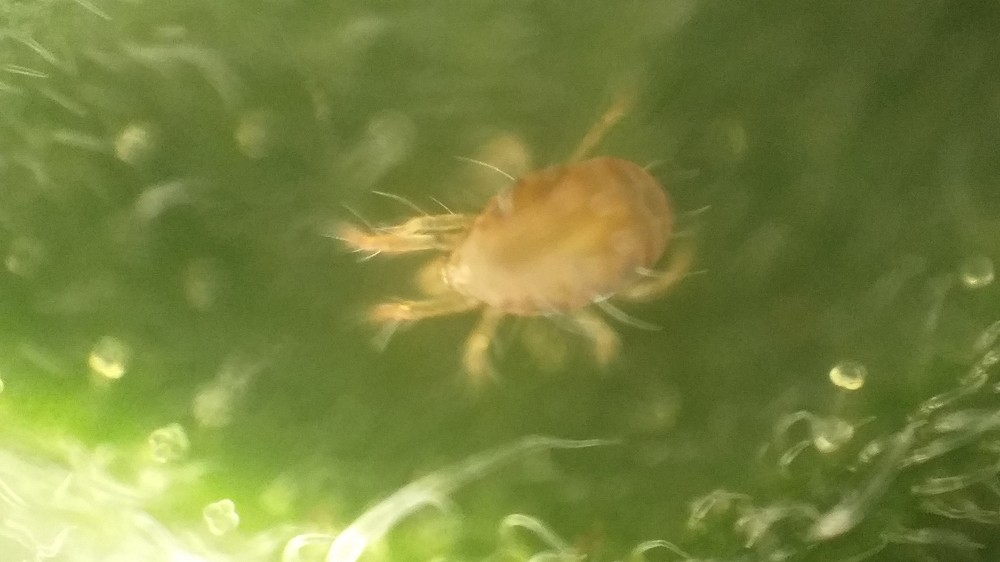Aracnido Rojo: (321, 107, 728, 388)
